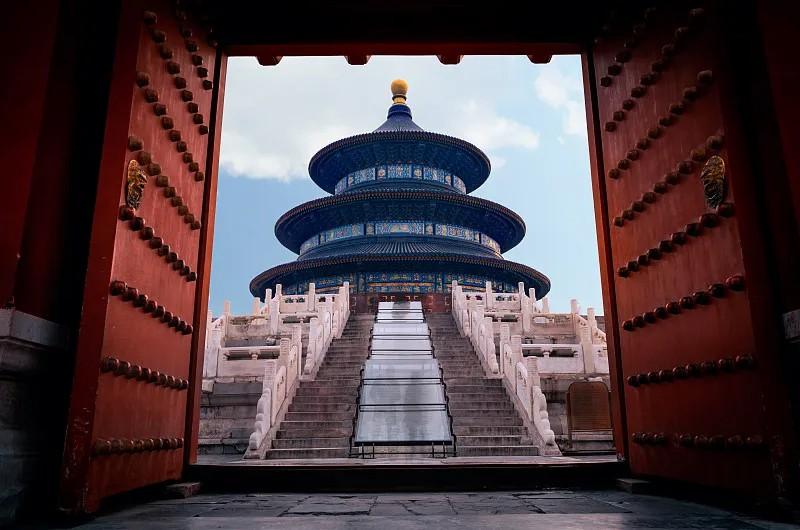Heaven: (248, 80, 551, 314)
